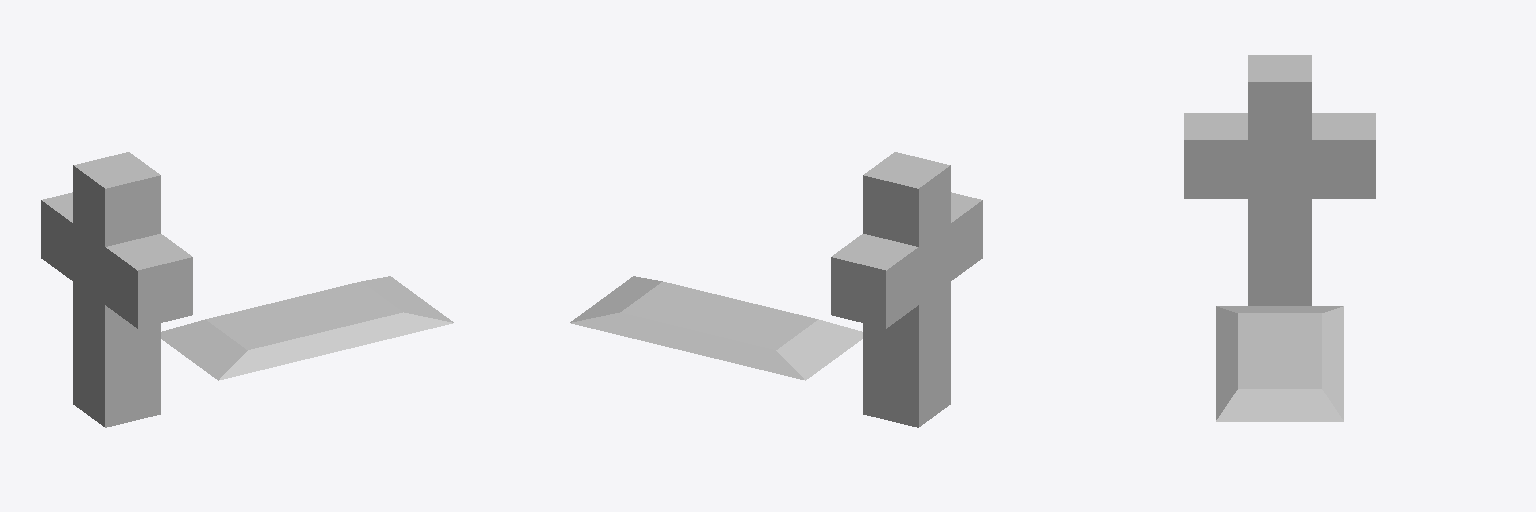
Rendered from grave.obj.
3 renders of one model, left to right at view 1: azimuth 30°, elevation 25°; view 2: azimuth 150°, elevation 25°; view 3: azimuth 270°, elevation 25°, orthographic.
Parts seen in each view (by area): view 1: Cube, Plane; view 2: Cube, Plane; view 3: Cube, Plane.
Part boxes in pixels (bbox=[...]): Cube: bbox=[41, 152, 192, 427]; Plane: bbox=[161, 276, 453, 380]; Cube: bbox=[831, 152, 982, 427]; Plane: bbox=[570, 276, 862, 380]; Cube: bbox=[1184, 55, 1375, 305]; Plane: bbox=[1216, 306, 1343, 421].
Size of the model in its own units: 11.98 by 8.21 by 6.